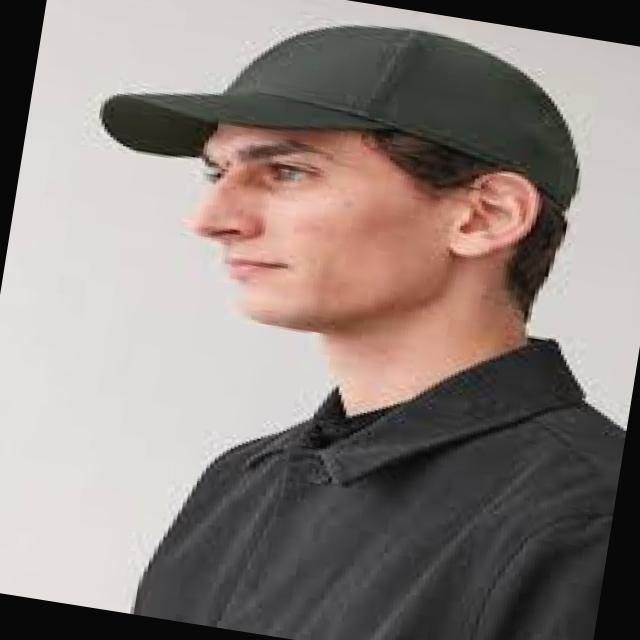cap: (60, 0, 612, 254)
